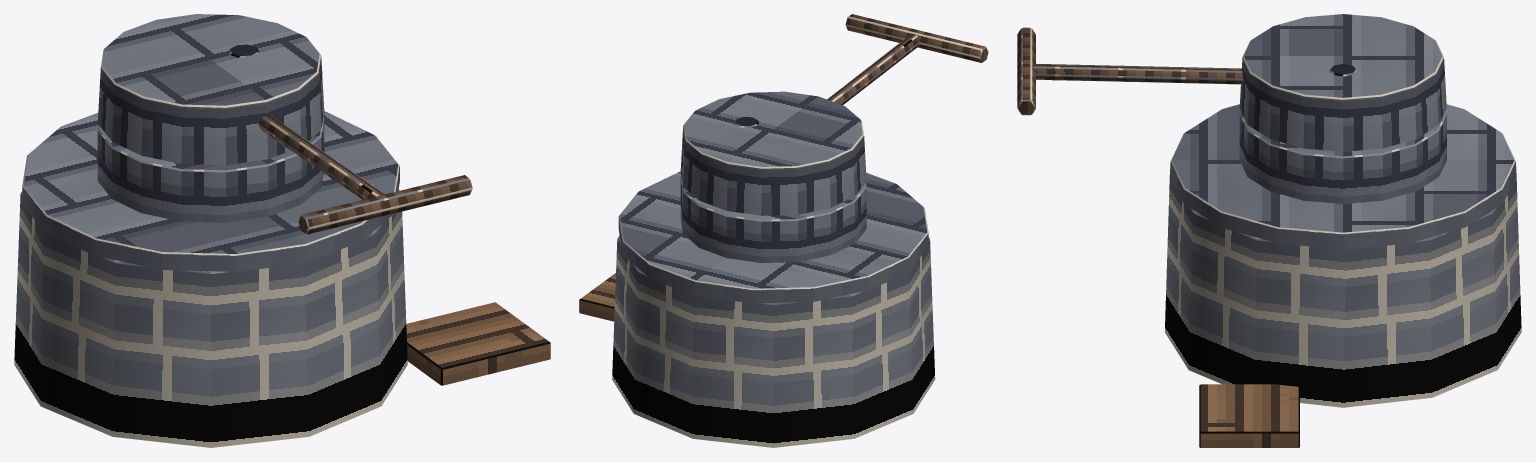
The model's file is cn_stone_mill_0.glb.
The picture shows the model from 3 angles, left to right: view 1: azimuth 30°, elevation 25°; view 2: azimuth 150°, elevation 25°; view 3: azimuth 270°, elevation 25°; orthographic projection. The views are drawn at different scales.
Parts seen in each view (by area): view 1: cn_stone_mill_1; view 2: cn_stone_mill_1; view 3: cn_stone_mill_1.
Boxes of the visible parts, x1,y1,x2,y2 form: cn_stone_mill_1: (14,14,550,447); cn_stone_mill_1: (579,14,988,447); cn_stone_mill_1: (1017,14,1521,447).
Bounding box in the file's own units: 1.57 × 1.07 × 1.75.
5 materials, 5 textured.
